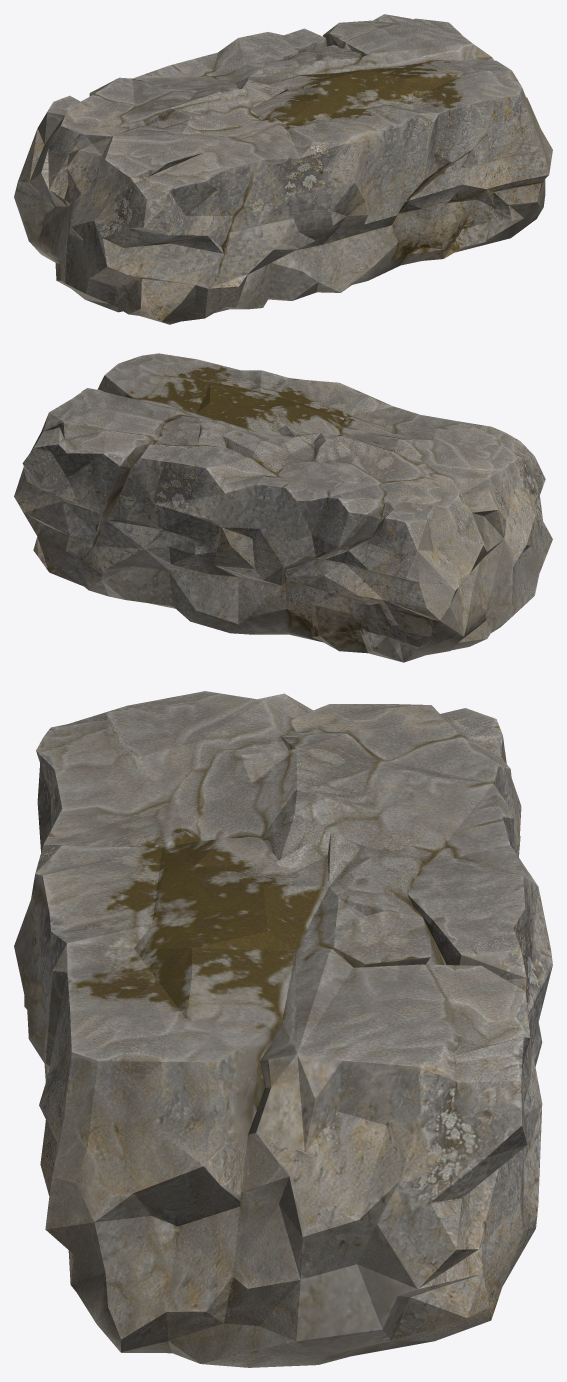
Rendered from ea_rainstone.glb.
3 renders of one model, top to bottom at view 1: azimuth 30°, elevation 25°; view 2: azimuth 150°, elevation 25°; view 3: azimuth 270°, elevation 25°, orthographic. The views are drawn at different scales.
Parts seen in each view (by area): view 1: output_unwrapped; view 2: output_unwrapped; view 3: output_unwrapped.
Part boxes in pixels (x1,y1,x2,y2): output_unwrapped: (14, 14, 552, 324); output_unwrapped: (14, 353, 552, 662); output_unwrapped: (14, 691, 552, 1367).
Size of the model in its own units: 1.9 by 0.7033 by 1.01.
Materials: 1 (1 with a texture image).
